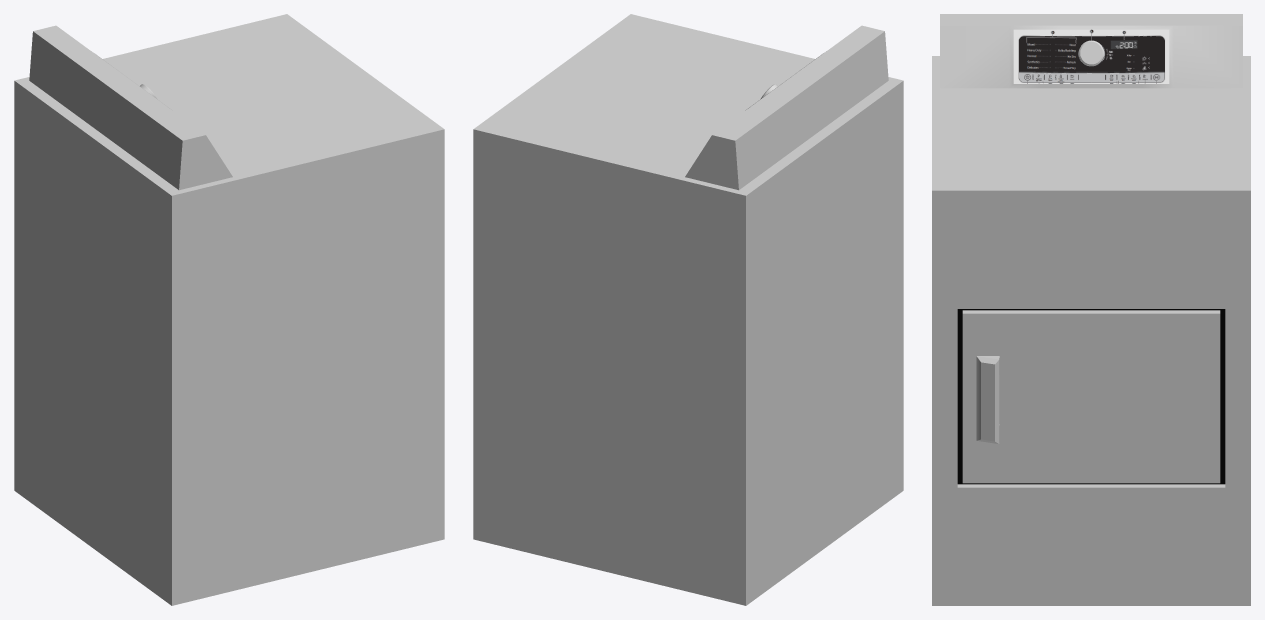
The model's file is dryer.fbx.
3 views of the same model, side by side, from view 1: azimuth 30°, elevation 25°; view 2: azimuth 150°, elevation 25°; view 3: azimuth 270°, elevation 25° (orthographic).
Visible parts, largest first — view 1: Cube; view 2: Cube; view 3: Cube.
Part boxes in pixels (box(x1,y1,x2,y2)): Cube: box(14, 14, 444, 605); Cube: box(473, 14, 903, 605); Cube: box(932, 14, 1250, 605).
Size of the model in its own units: 207 by 321 by 200.
